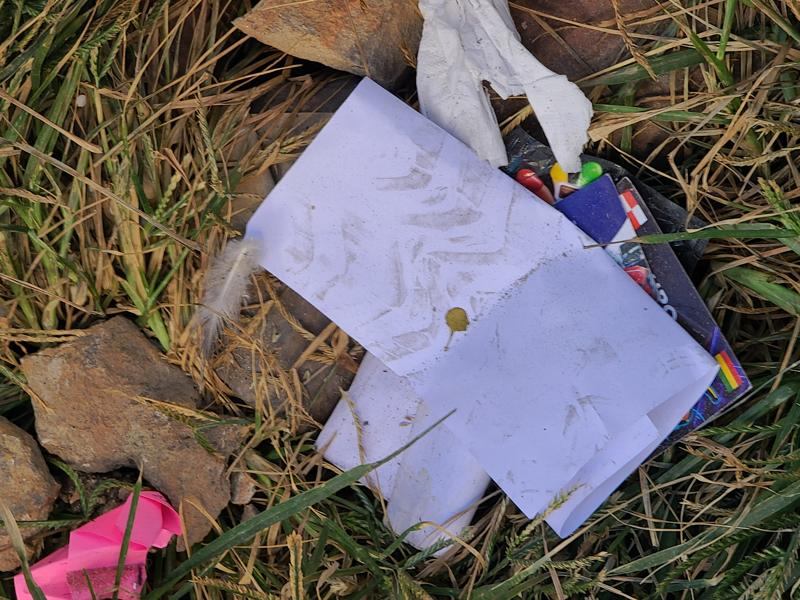papel: (233, 79, 752, 550)
